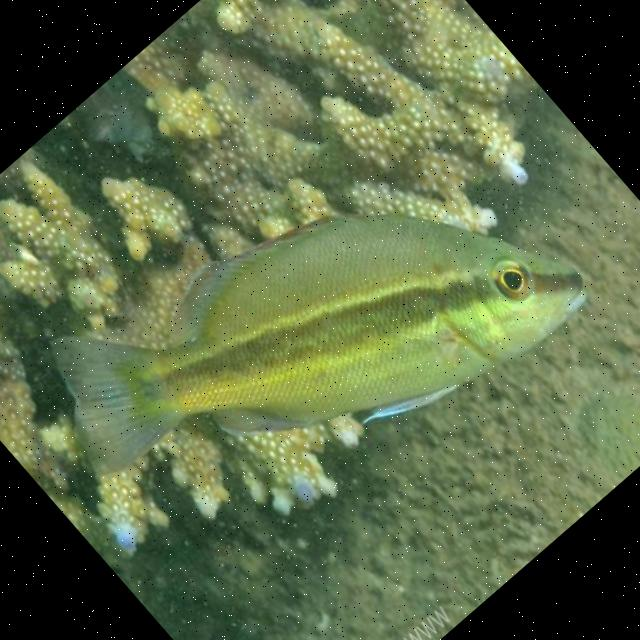ikan: (7, 45, 601, 622)
